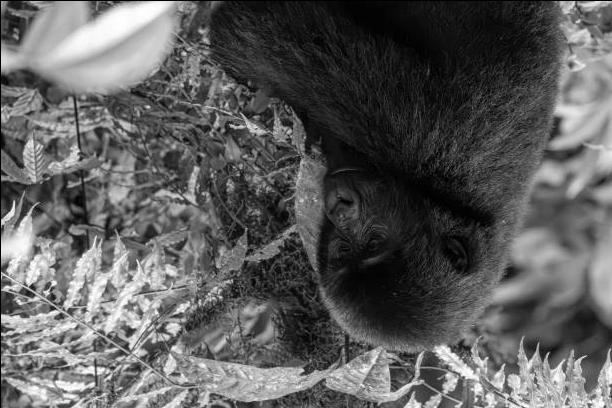goriile_montagne: (199, 10, 600, 347)
